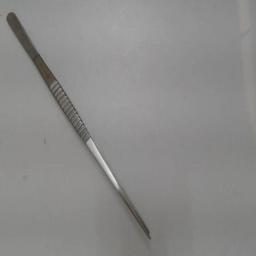DeBakey Dissector: (5, 2, 155, 248)
